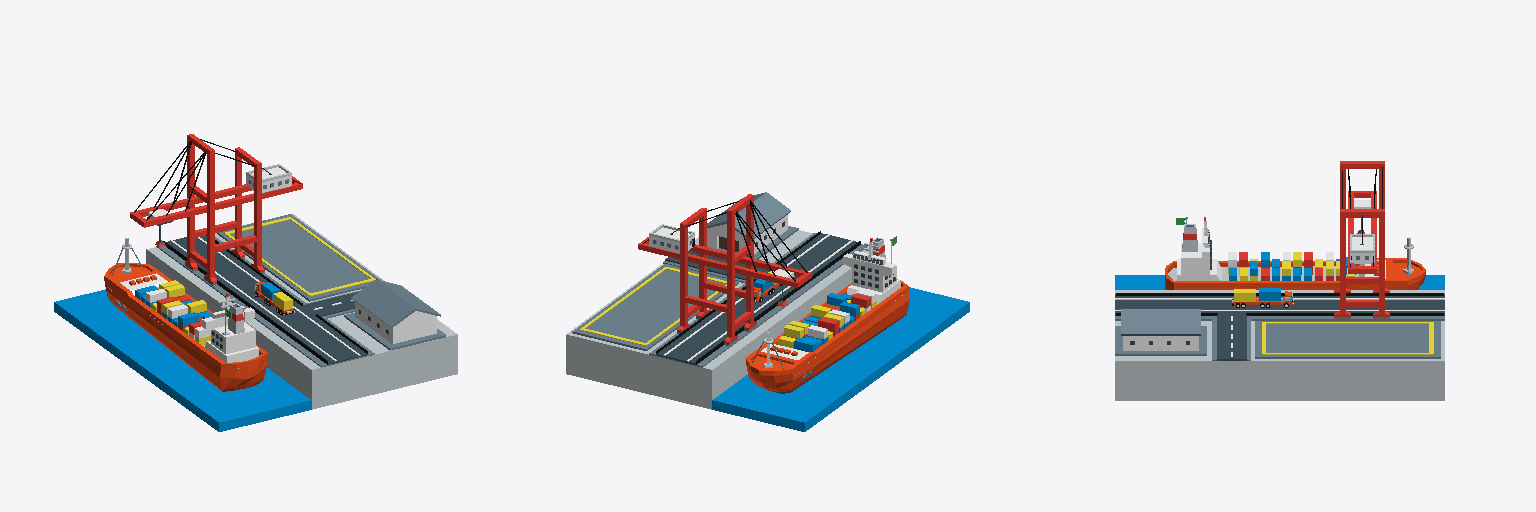
Rendered from platform.obj.
The picture shows the model from 3 angles: view 1: azimuth 30°, elevation 25°; view 2: azimuth 150°, elevation 25°; view 3: azimuth 270°, elevation 25°; orthographic projection.
Visible parts, largest first — view 1: Ground_mesh[number redacted], Boat_mesh[number redacted], Crane_mesh[number redacted], WharehouseGround_mesh[number redacted], otherStorage_mesh[number redacted], TruckLongOrange.001_mesh[number redacted].001; view 2: Ground_mesh[number redacted], Boat_mesh[number redacted], Crane_mesh[number redacted], WharehouseGround_mesh[number redacted], otherStorage_mesh[number redacted]; view 3: Ground_mesh[number redacted], Boat_mesh[number redacted], WharehouseGround_mesh[number redacted], Crane_mesh[number redacted], otherStorage_mesh[number redacted], TruckLongOrange.001_mesh[number redacted].001.
Boxes of the visible parts, box(x1,y1,x2,y2) form: Ground_mesh[number redacted]: box(54, 214, 457, 431); Boat_mesh[number redacted]: box(104, 238, 267, 391); Crane_mesh[number redacted]: box(130, 134, 302, 285); WharehouseGround_mesh[number redacted]: box(217, 214, 381, 301); otherStorage_mesh[number redacted]: box(344, 279, 445, 350); TruckLongOrange.001_mesh[number redacted].001: box(254, 282, 294, 314); Ground_mesh[number redacted]: box(566, 230, 969, 431); Boat_mesh[number redacted]: box(746, 236, 909, 393); Crane_mesh[number redacted]: box(638, 194, 811, 345); WharehouseGround_mesh[number redacted]: box(572, 264, 738, 350); otherStorage_mesh[number redacted]: box(707, 192, 798, 259); Ground_mesh[number redacted]: box(1115, 275, 1444, 400); Boat_mesh[number redacted]: box(1165, 217, 1425, 289); WharehouseGround_mesh[number redacted]: box(1255, 321, 1440, 358); Crane_mesh[number redacted]: box(1334, 161, 1389, 318); otherStorage_mesh[number redacted]: box(1115, 309, 1206, 355); TruckLongOrange.001_mesh[number redacted].001: box(1232, 289, 1293, 307).
Size of the model in its own units: 3.9 by 2.71 by 4.67.